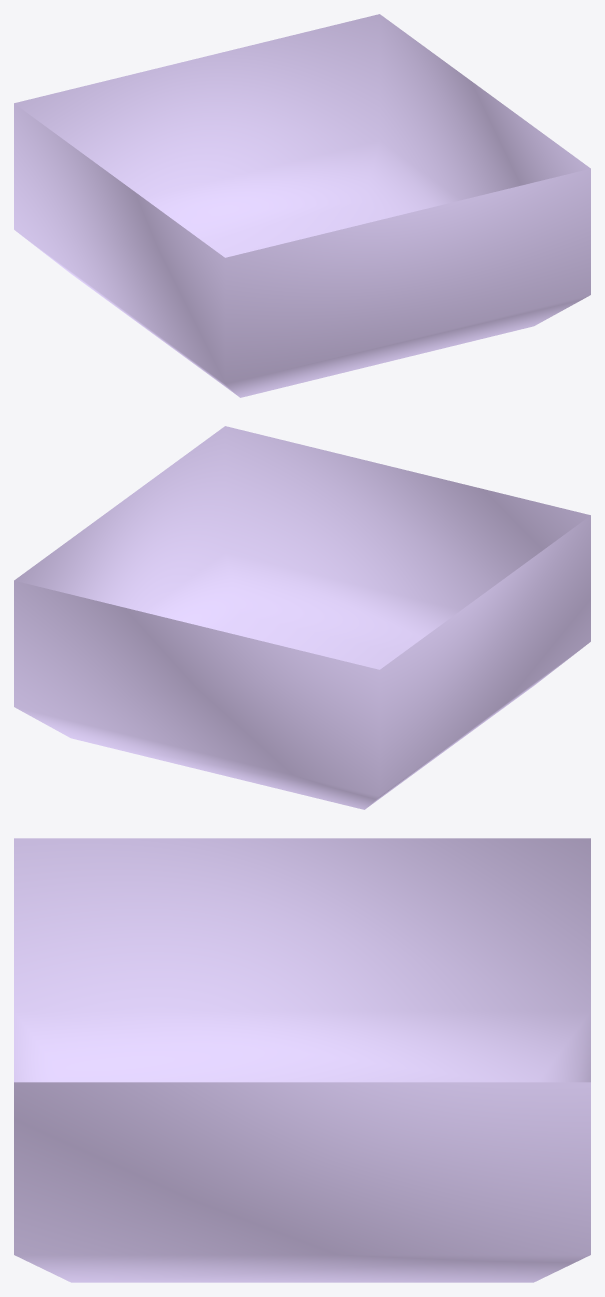
The model's file is Room_Portfolio.glb.
The picture shows the model from 3 angles, top to bottom: view 1: azimuth 30°, elevation 25°; view 2: azimuth 150°, elevation 25°; view 3: azimuth 270°, elevation 25°; orthographic projection. The views are drawn at different scales.
Parts seen in each view (by area): view 1: Studio_Backdrop; view 2: Studio_Backdrop; view 3: Studio_Backdrop.
Boxes of the visible parts, <box> form: Studio_Backdrop: <box>14,14,590,397</box>; Studio_Backdrop: <box>14,426,590,809</box>; Studio_Backdrop: <box>14,838,590,1282</box>.
Bounding box in the file's own units: 54.81 × 23.56 × 54.81.
